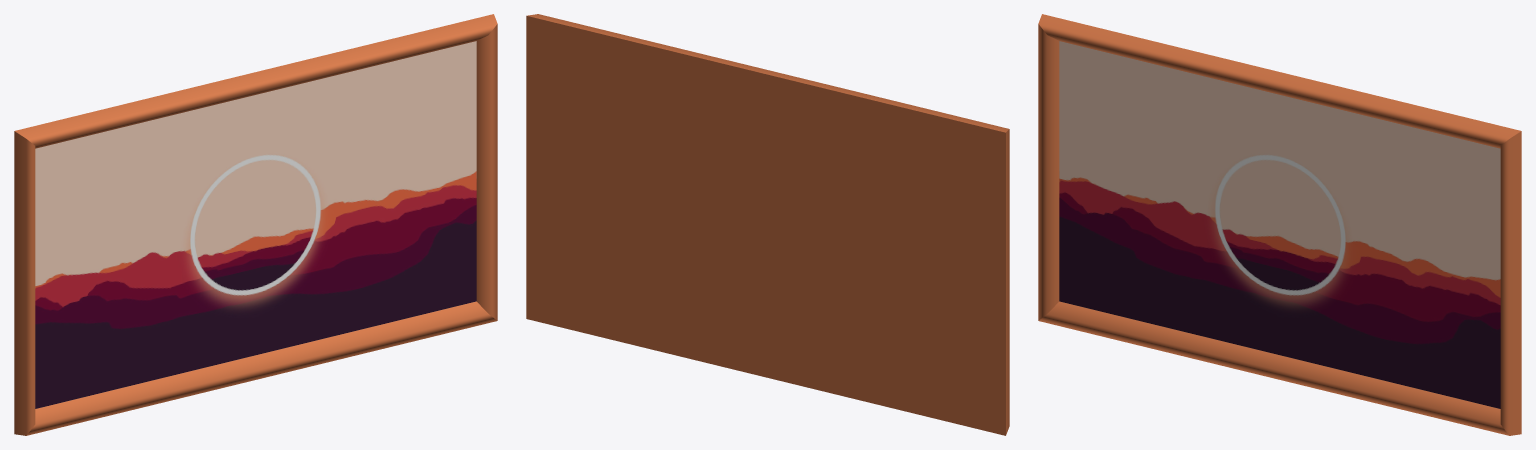
File: picture_010.fbx
3 views of the same model, side by side, from view 1: azimuth 30°, elevation 25°; view 2: azimuth 150°, elevation 25°; view 3: azimuth 330°, elevation 25° (orthographic).
Parts seen in each view (by area): view 1: picture_010; view 2: picture_010; view 3: picture_010.
Part boxes in pixels (box(x1,y1,x2,y2)): picture_010: box(14, 14, 497, 435); picture_010: box(526, 14, 1009, 435); picture_010: box(1038, 14, 1521, 435).
Size of the model in its own units: 131 by 3.71 by 79.31.
